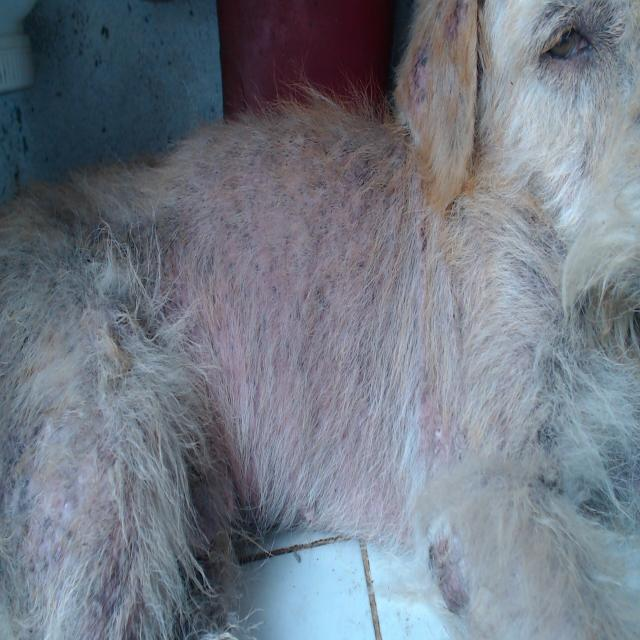demodicosis: (196, 199, 371, 477), (23, 477, 132, 607), (431, 525, 464, 600), (407, 50, 438, 108), (443, 3, 467, 42)
